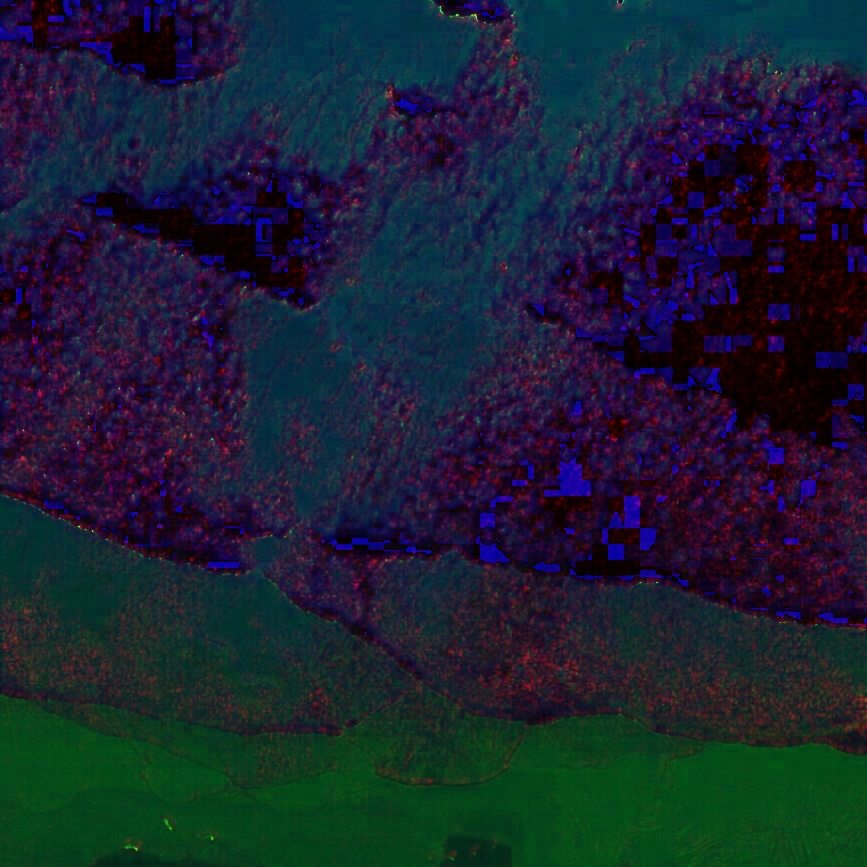rip_current: (222, 56, 604, 556)
